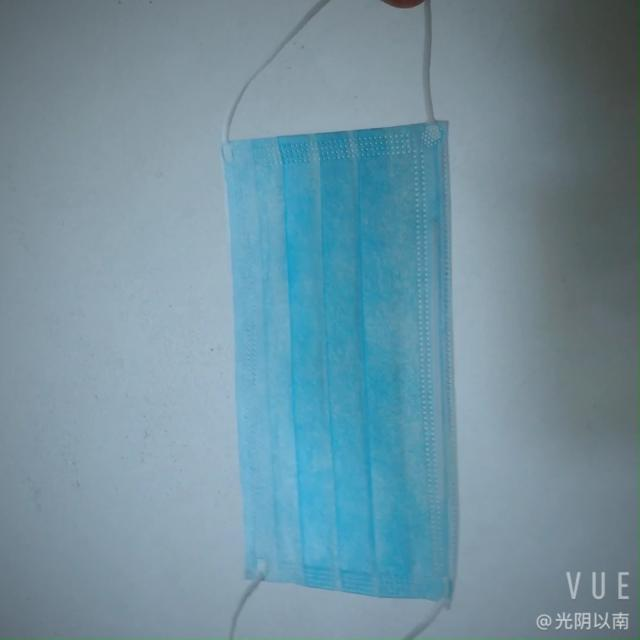face mask: (210, 117, 465, 604)
